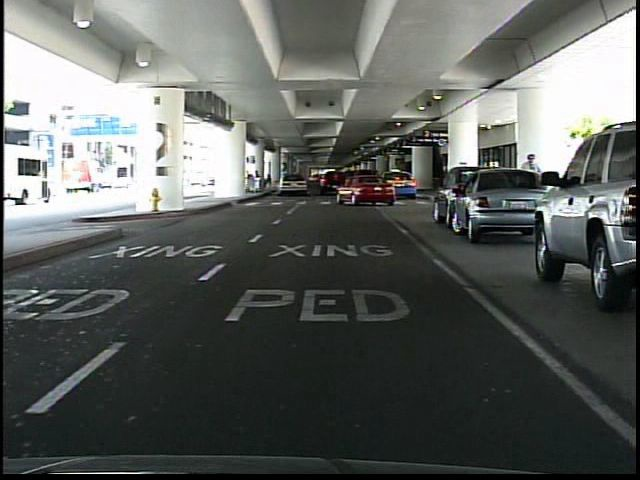person: (518, 153, 546, 229)
